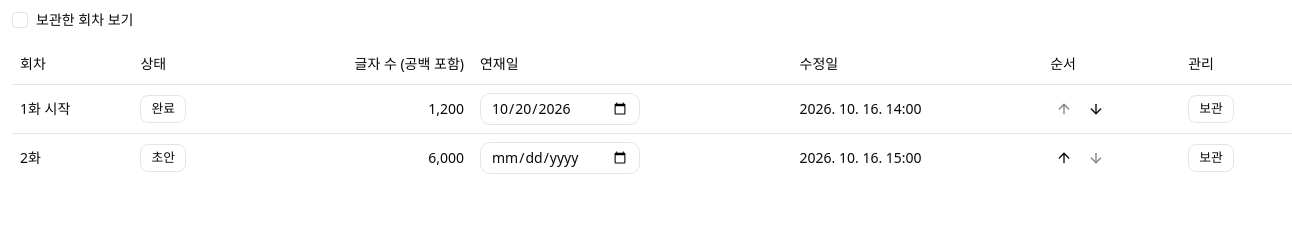
Test: ChapterTable › hides archived chapters until the archived toggle is on
The image size is (1292, 240).
Expected: the link "1화 시작" is shown, [20, 98, 70, 118]
Expected: the text "3화 옛 장면" is not shown
Click the checkbox named "보관한 회차 보기" at (20, 20), box [12, 12, 28, 28]
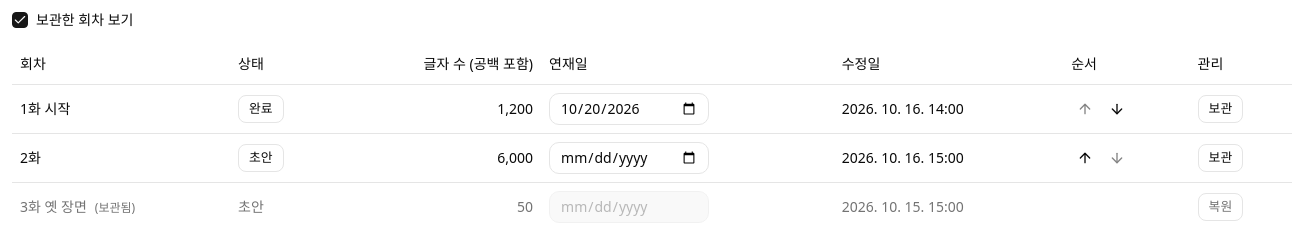
Expected: the text "3화 옛 장면" is shown, [20, 196, 87, 216]
